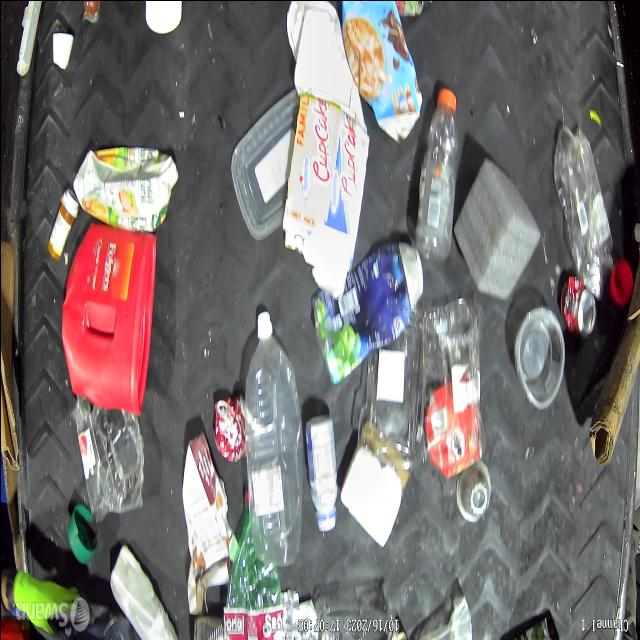can: (557, 278, 601, 342)
non_white_jug: (60, 233, 150, 414), (307, 239, 417, 387)
plastic_bottle: (240, 312, 298, 570), (552, 133, 612, 284), (416, 88, 456, 264)
